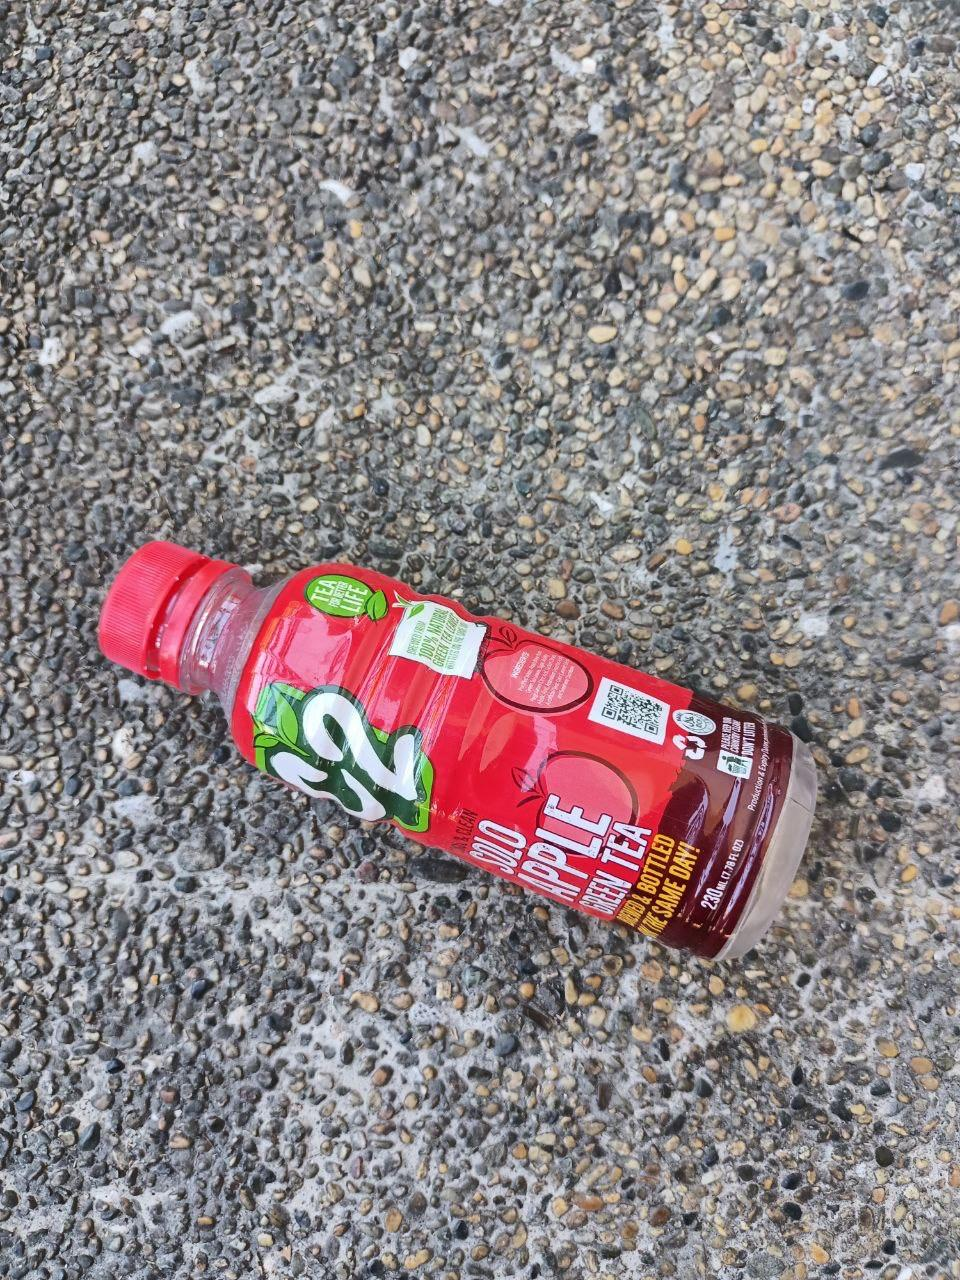plastic: (70, 492, 870, 1020)
